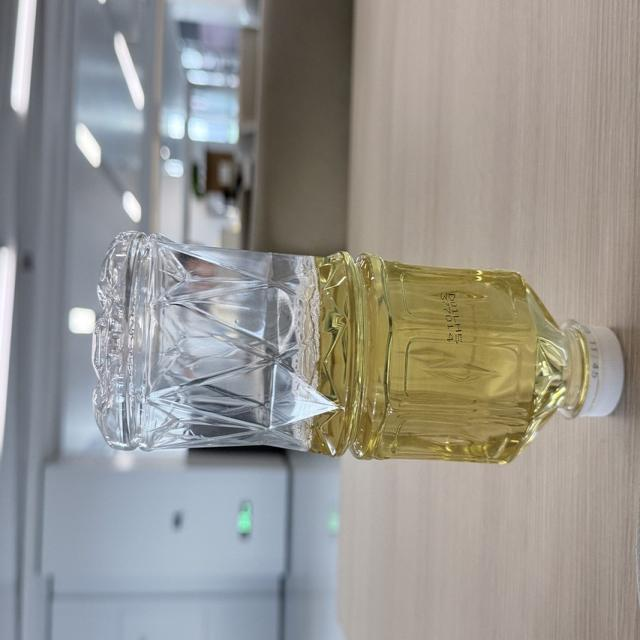medium: (92, 231, 623, 462)
